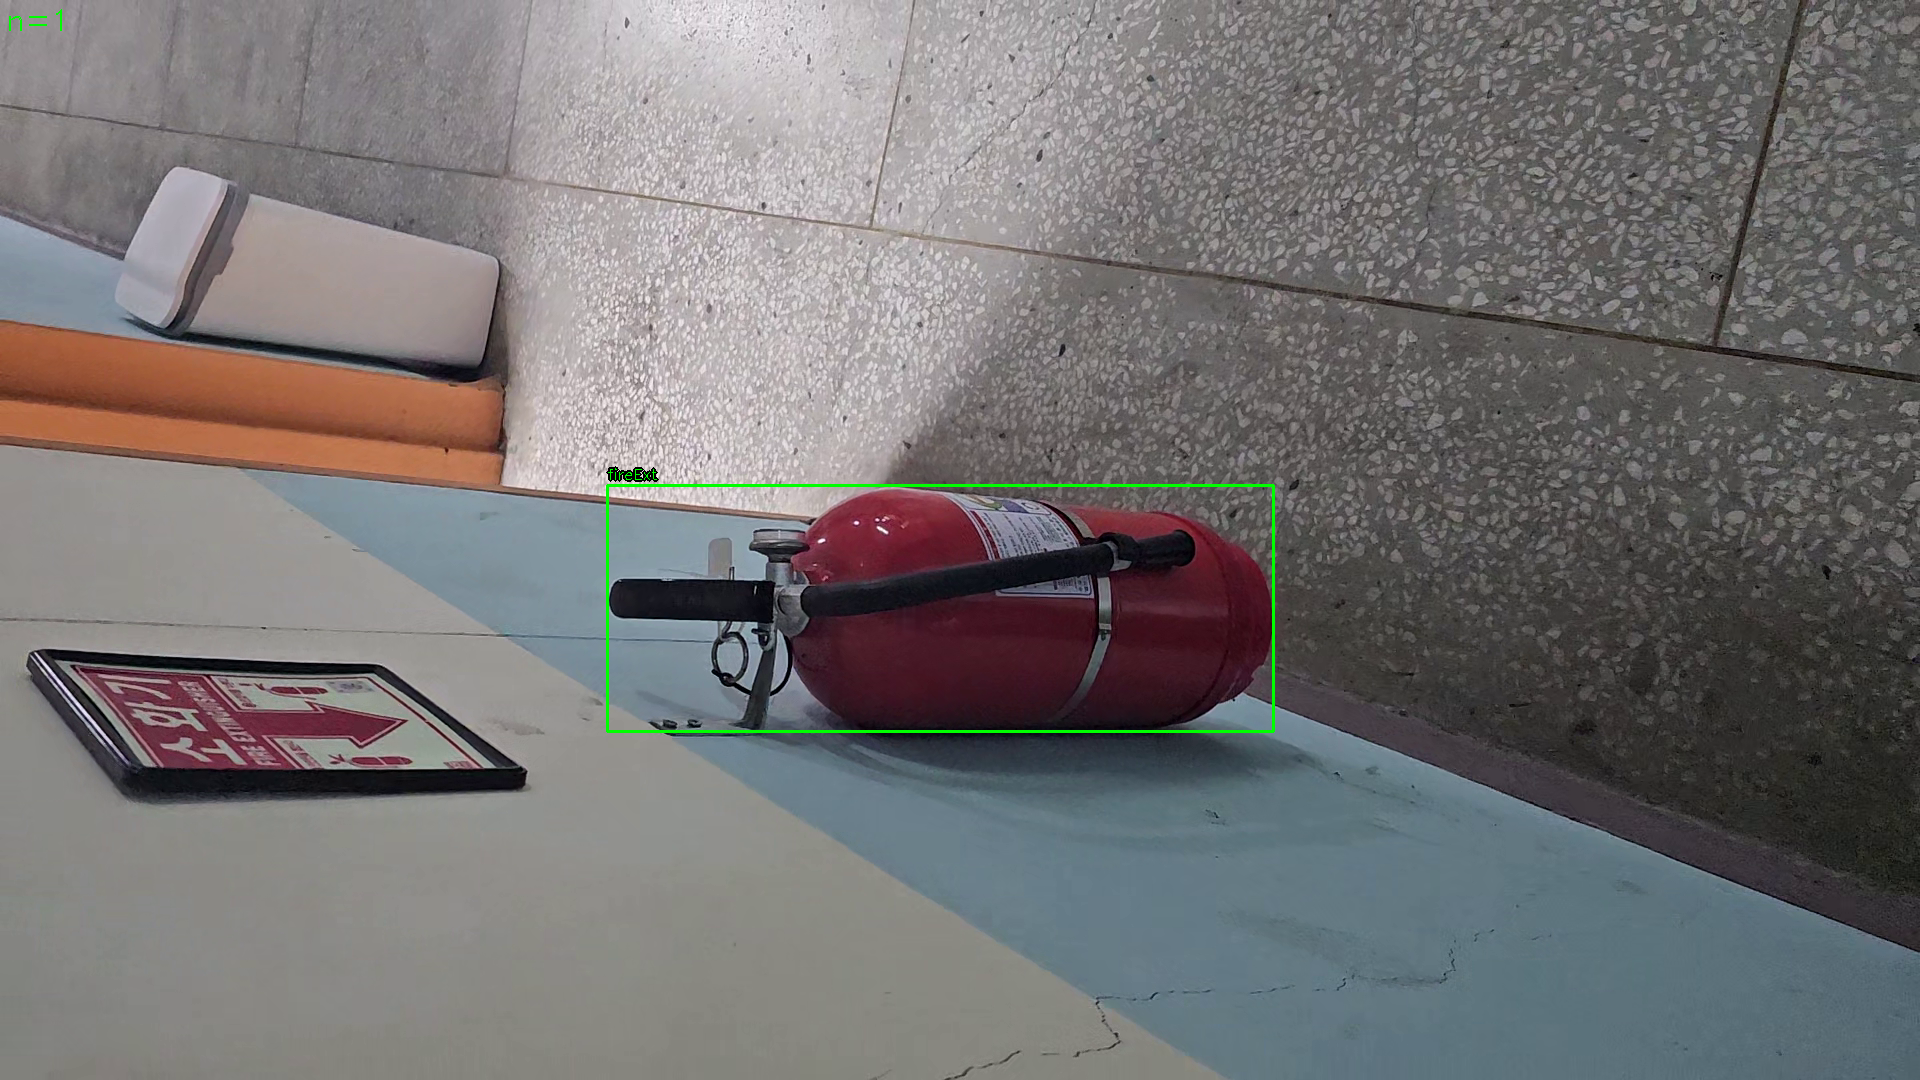lane: (607, 485, 1274, 732)
